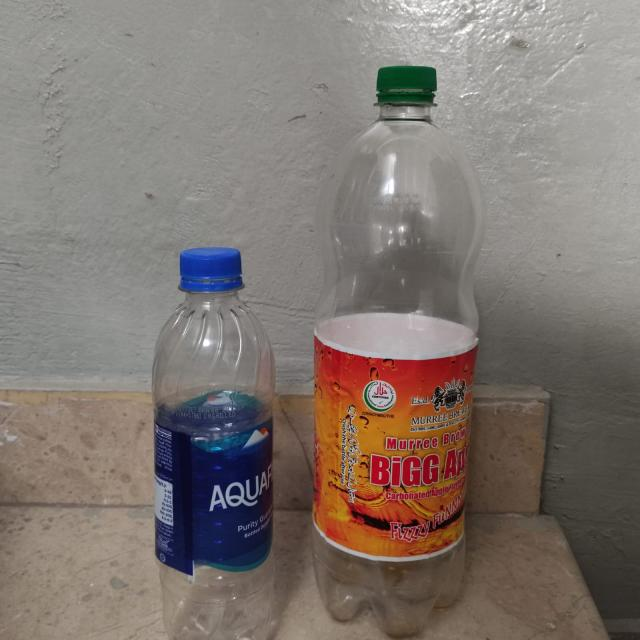bottle: (309, 61, 487, 640), (144, 246, 280, 640)
cap: (374, 60, 443, 110), (178, 248, 244, 298)
label: (322, 326, 473, 558), (152, 406, 274, 575)
